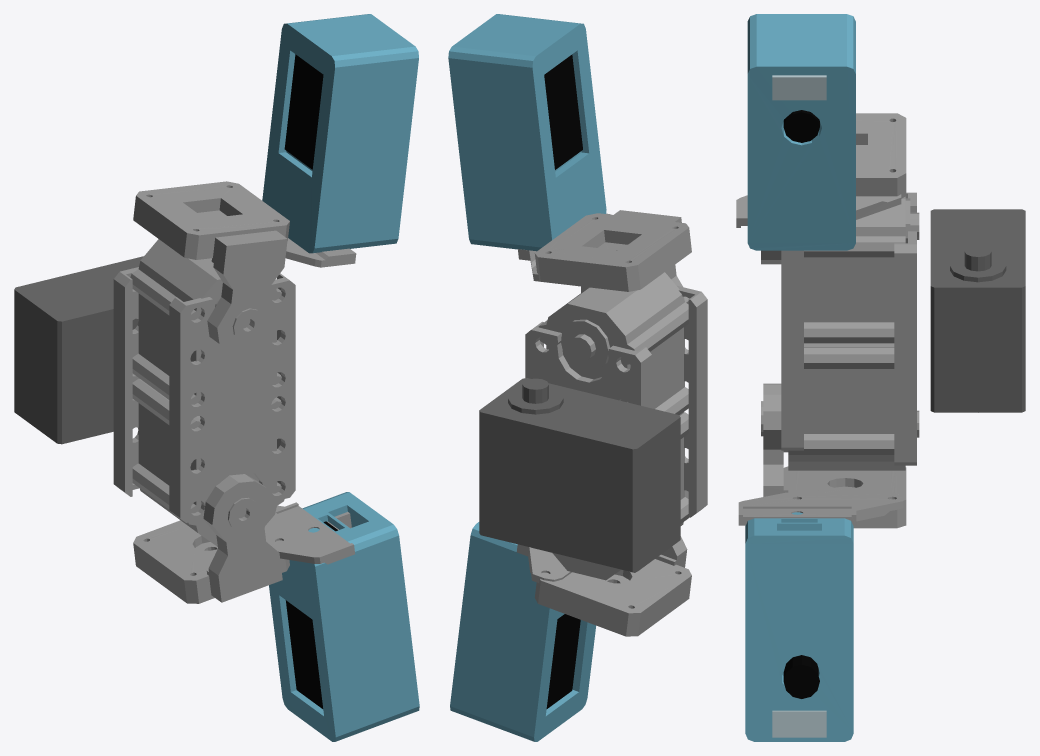
File: head-neck-p.glb
The picture shows the model from 3 angles, left to right: view 1: azimuth 30°, elevation 25°; view 2: azimuth 150°, elevation 25°; view 3: azimuth 270°, elevation 25°; orthographic projection.
Bounding box in the file's own units: 0.071 × 0.1702 × 0.064.
